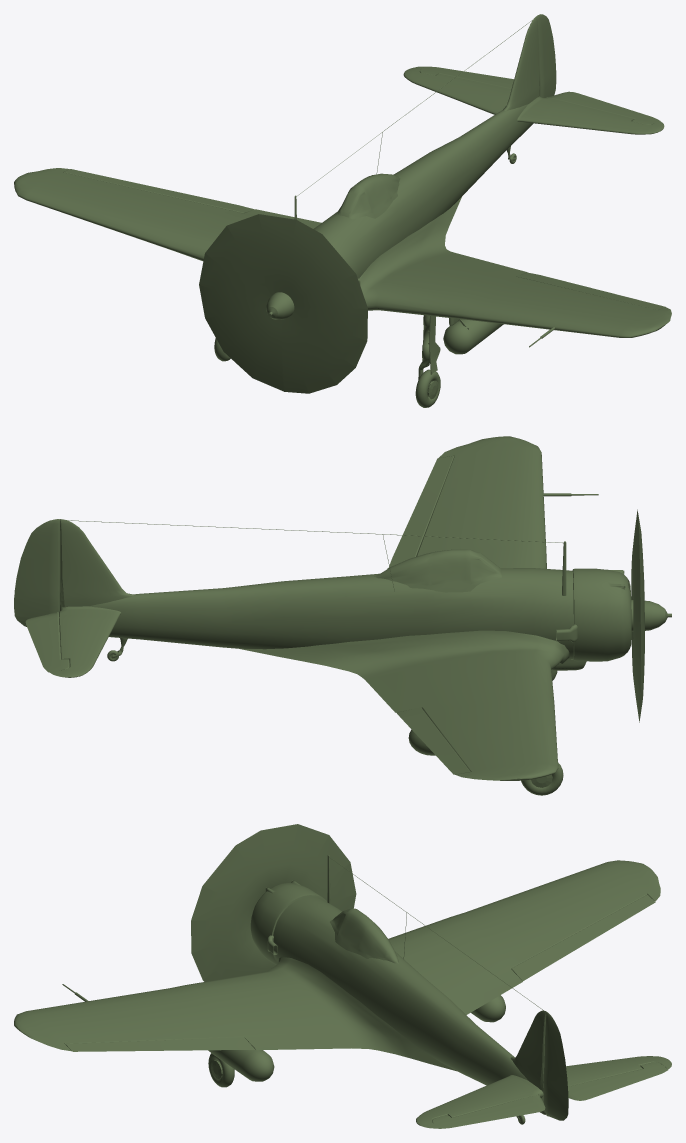
Rendered from Model_NakajimaKi43.glb.
The picture shows the model from 3 angles, top to bottom: view 1: azimuth 30°, elevation 25°; view 2: azimuth 150°, elevation 25°; view 3: azimuth 270°, elevation 25°; orthographic projection. The views are drawn at different scales.
Parts seen in each view (by area): view 1: kabina02-FACES.001; view 2: kabina02-FACES.001; view 3: kabina02-FACES.001.
Boxes of the visible parts, <box> form: kabina02-FACES.001: <box>14,14,671,407</box>; kabina02-FACES.001: <box>14,436,671,795</box>; kabina02-FACES.001: <box>14,824,671,1128</box>.
Size of the model in its own units: 9.42 by 3.34 by 9.63.
